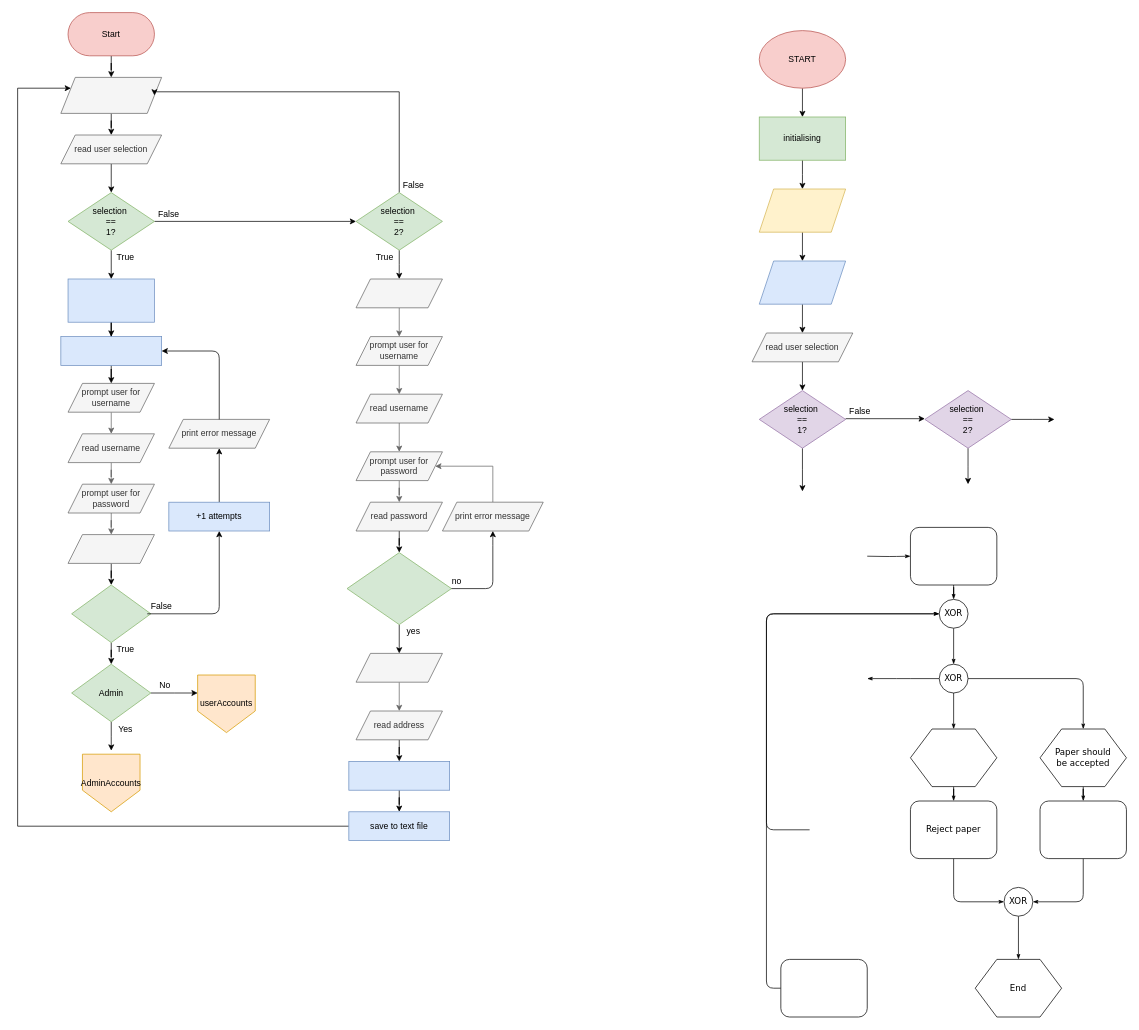
Image size: 1139x1030. Some labels were removed from this diagram. Here are the shapes that lost their labels. From the top down, the centre of each, then its label:
point 111,95: Display Menu "1.Login 2.Create Account"
point 802,210: read "TestData"
point 110,300: read encrypted text file that contains usernames and passwords
point 398,293: "create account"
point 802,282: Display Menu "1.CVE 2.Vendors"
point 111,350: while loop < 5
point 110,548: read hidden password
point 953,556: Decide on acceptance
point 398,588: does the password match the criteria
point 111,613: credentials match
point 398,667: prompt user for address
point 399,775: encrypt the data
point 953,757: Paper should be rejected
point 1082,829: Accept paper
point 823,988: Combine review X with others
